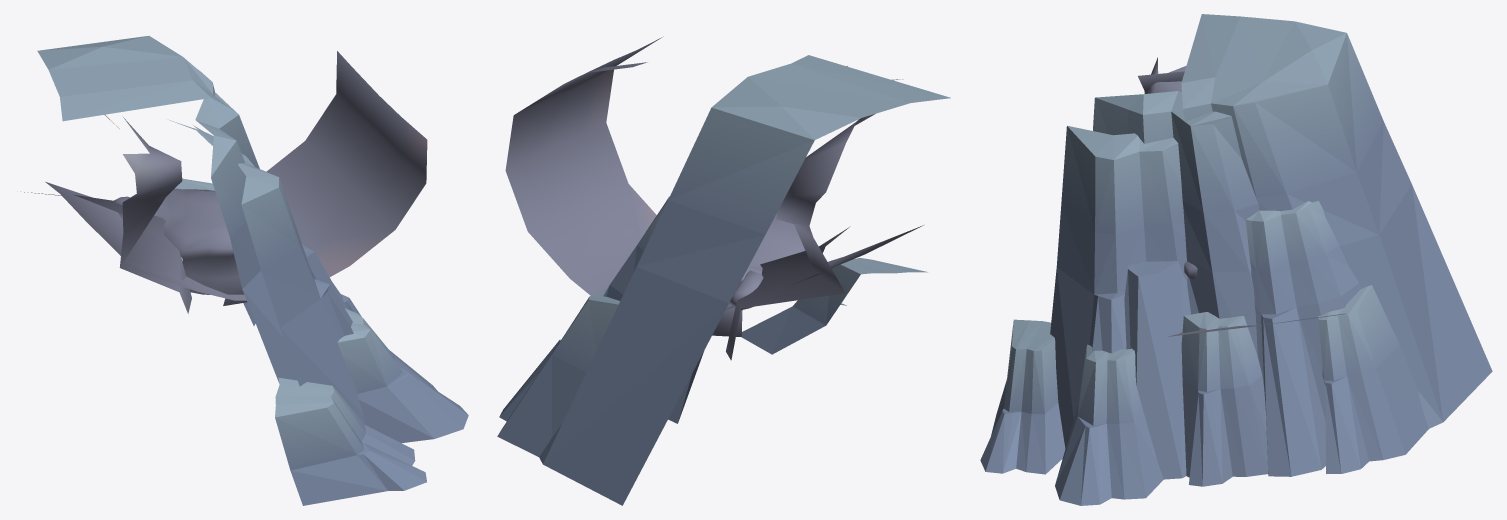
Rendered from Arctic_Luge_TunnelObstacle_Right_Mid_A.glb.
3 views of the same model, side by side, from view 1: azimuth 30°, elevation 25°; view 2: azimuth 150°, elevation 25°; view 3: azimuth 270°, elevation 25° (orthographic). The views are drawn at different scales.
Parts seen in each view (by area): view 1: Arctic_Luge_TunnelObstacle_Right_Mid_A, Arctic_Narrows_Right_IceWall_A01, Arctic_Narrows_Right_IceWall_A01_Left; view 2: Arctic_Narrows_Right_IceWall_A01, Arctic_Luge_TunnelObstacle_Right_Mid_A, Arctic_Narrows_Right_IceWall_A01_Right, Arctic_Narrows_Right_IceWall_A01_Left, Arctic_Narrows_Right_IceWall_A01_Mid; view 3: Arctic_Narrows_Right_IceWall_A01, Arctic_Narrows_Right_IceWall_A01_Mid, Arctic_Narrows_Right_IceWall_A01_Left, Arctic_Narrows_Right_IceWall_A01_Right, Arctic_Luge_TunnelObstacle_Right_Mid_A.
Part boxes in pixels (x1,y1,x2,y2): Arctic_Luge_TunnelObstacle_Right_Mid_A: (24, 51, 427, 313); Arctic_Narrows_Right_IceWall_A01: (37, 36, 364, 424); Arctic_Narrows_Right_IceWall_A01_Left: (275, 308, 468, 505); Arctic_Narrows_Right_IceWall_A01: (539, 55, 950, 505); Arctic_Luge_TunnelObstacle_Right_Mid_A: (505, 36, 923, 360); Arctic_Narrows_Right_IceWall_A01_Right: (497, 289, 619, 456); Arctic_Narrows_Right_IceWall_A01_Left: (742, 258, 927, 354); Arctic_Narrows_Right_IceWall_A01_Mid: (603, 196, 669, 300); Arctic_Narrows_Right_IceWall_A01: (1050, 14, 1492, 479); Arctic_Narrows_Right_IceWall_A01_Mid: (1181, 201, 1360, 486); Arctic_Narrows_Right_IceWall_A01_Left: (980, 319, 1163, 505); Arctic_Narrows_Right_IceWall_A01_Right: (1318, 285, 1428, 473); Arctic_Luge_TunnelObstacle_Right_Mid_A: (1138, 57, 1346, 336).
Size of what is drawn, in the model's own units: 5.45 by 5.41 by 7.12.
